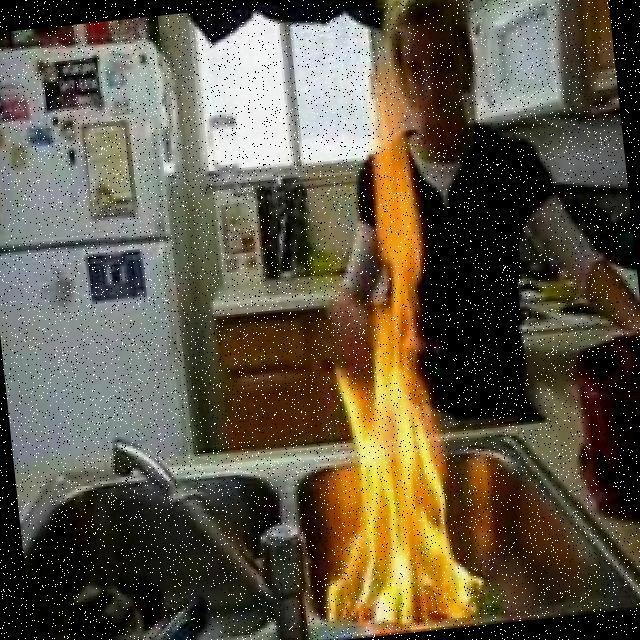Fire: (295, 96, 471, 630)
